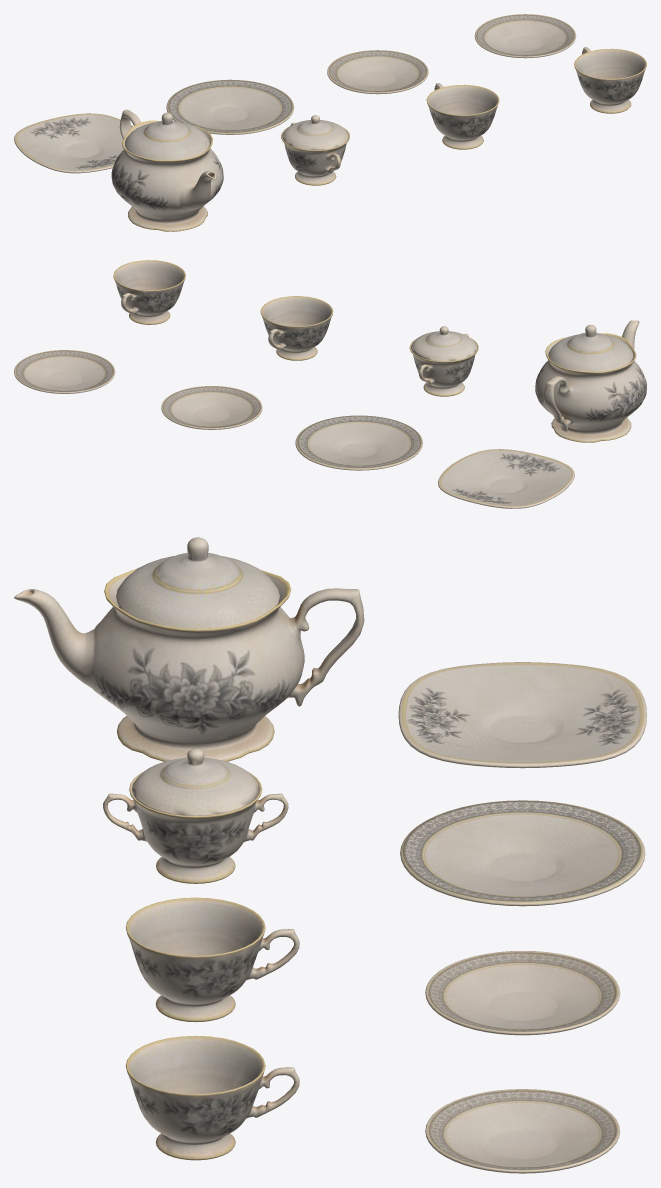
Rendered from tea-set-01.glb.
3 renders of one model, top to bottom at view 1: azimuth 30°, elevation 25°; view 2: azimuth 150°, elevation 25°; view 3: azimuth 270°, elevation 25°, orthographic. The views are drawn at different scales.
Parts seen in each view (by area): view 1: tea_set_01_plate_large_square_01; view 2: tea_set_01_plate_large_square_01; view 3: tea_set_01_plate_large_square_01.
Boxes of the visible parts, x1,y1,x2,y2 form: tea_set_01_plate_large_square_01: [14, 14, 646, 231]; tea_set_01_plate_large_square_01: [14, 260, 646, 508]; tea_set_01_plate_large_square_01: [14, 537, 646, 1173].
Size of the model in its own units: 0.9185 by 0.165 by 0.4839.
Materials: 1 (1 with a texture image).
